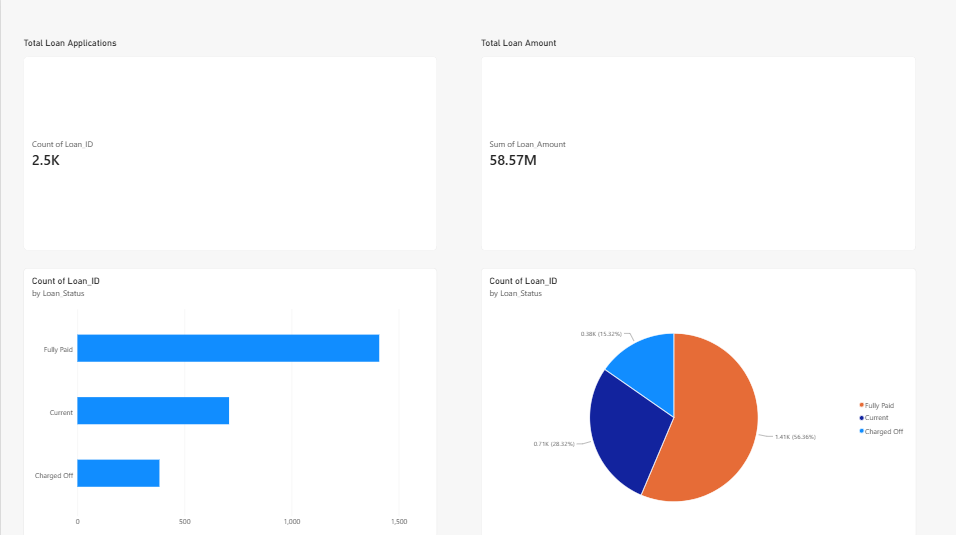

The dashboard page shown, as its layout file describes it:
{"tool":"powerbi","page":{"name":"Loan Overview","canvas":[1920,1080],"ordinal":0},"visuals":[{"type":"cardVisual","title":"Total Loan Applications","fields":{"Data":["CountNonNull(Bank_Loan_Cleaning_Workbook.Loan_ID)"]},"box":[45,80,827.5,425],"z":1},{"type":"clusteredBarChart","fields":{"Category":["Bank_Loan_Cleaning_Workbook.Loan_Status"],"Y":["CountNonNull(Bank_Loan_Cleaning_Workbook.Loan_ID)"]},"box":[45,540,827.5,540],"z":2},{"type":"pieChart","fields":{"Category":["Bank_Loan_Cleaning_Workbook.Loan_Status"],"Y":["CountNonNull(Bank_Loan_Cleaning_Workbook.Loan_ID)"]},"box":[960,540,870,540],"z":3},{"type":"cardVisual","title":"Total Loan Amount","fields":{"Data":["Sum(Bank_Loan_Cleaning_Workbook.Loan_Amount)"]},"box":[960,80,870,425],"z":4}]}

Visuals, with their boxes in screenshot pixels (x1, y1, x2, y2), scaled from the page's 1920x1080 canvas onto the 956x535 screenshot:
"Total Loan Applications" cardVisual: rect(22, 40, 434, 250)
clusteredBarChart - Bank_Loan_Cleaning_Workbook.Loan_Status x CountNonNull(Bank_Loan_Cleaning_Workbook.Loan_ID): rect(22, 268, 434, 534)
pieChart - Bank_Loan_Cleaning_Workbook.Loan_Status x CountNonNull(Bank_Loan_Cleaning_Workbook.Loan_ID): rect(478, 268, 911, 534)
"Total Loan Amount" cardVisual: rect(478, 40, 911, 250)
